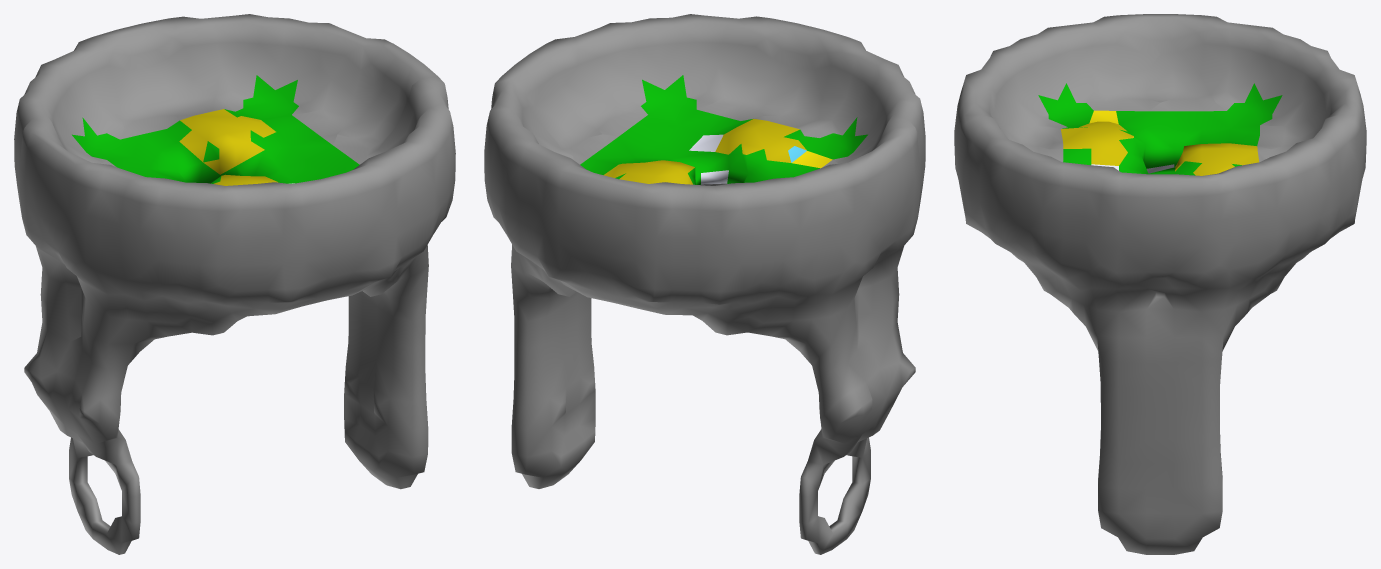
The model's file is link1_remeshed.dae.
The picture shows the model from 3 angles, left to right: view 1: azimuth 30°, elevation 25°; view 2: azimuth 150°, elevation 25°; view 3: azimuth 270°, elevation 25°; orthographic projection. The views are drawn at different scales.
Visible parts, largest first — view 1: node0; view 2: node0; view 3: node0.
Part boxes in pixels (x1,y1,x2,y2): node0: [14, 14, 455, 554]; node0: [484, 14, 925, 554]; node0: [954, 14, 1366, 554].
Size of the model in its own units: 0.0447 by 0.0447 by 0.046.
